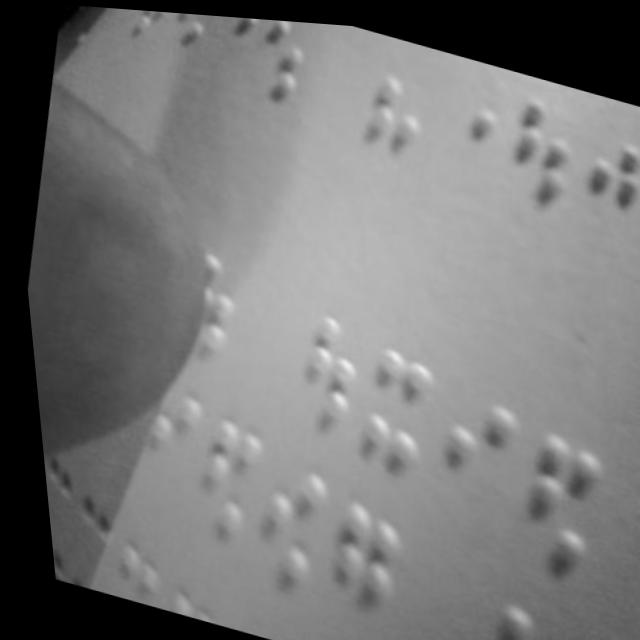braiile: (492, 413, 612, 578), (415, 373, 524, 527), (298, 492, 402, 640), (487, 75, 589, 222), (234, 453, 335, 599), (174, 395, 268, 546), (339, 327, 438, 467), (415, 46, 514, 182), (276, 295, 368, 425), (561, 115, 640, 253), (242, 14, 319, 112), (461, 589, 548, 640), (621, 152, 640, 278)
